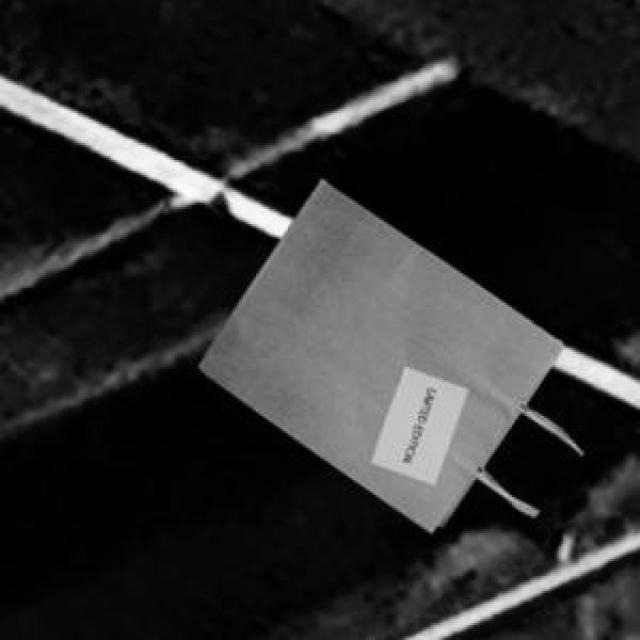paper: (194, 175, 576, 529)
